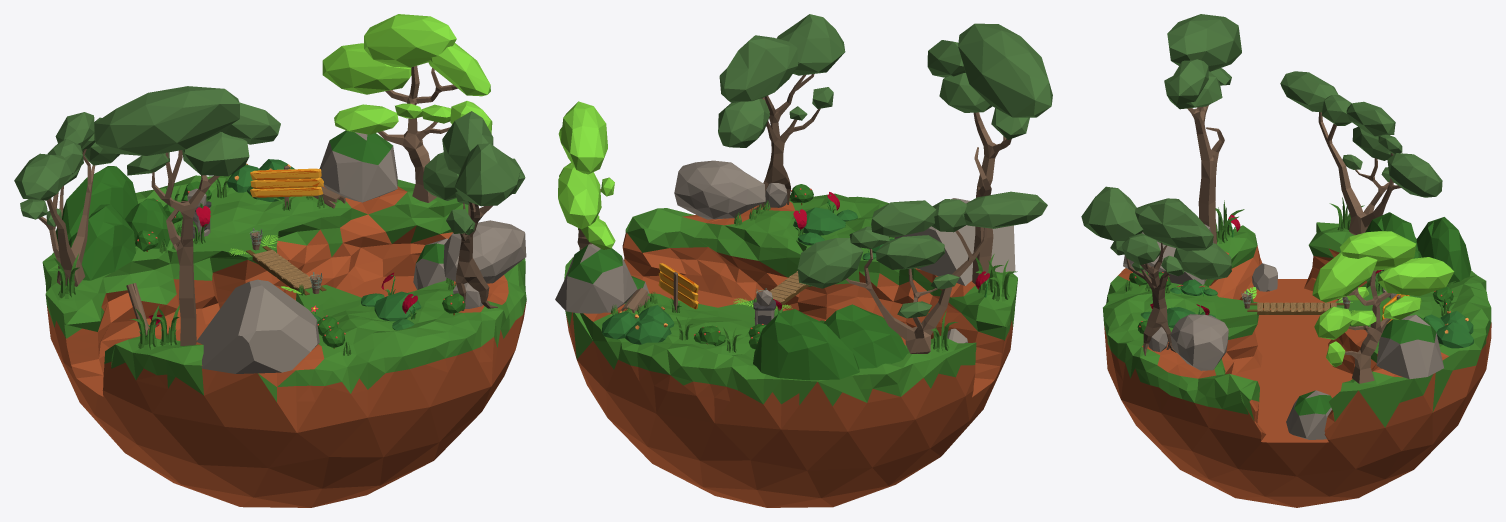
File: Isla3.fbx
The picture shows the model from 3 angles, left to right: view 1: azimuth 30°, elevation 25°; view 2: azimuth 150°, elevation 25°; view 3: azimuth 270°, elevation 25°; orthographic projection. The views are drawn at different scales.
Parts seen in each view (by area): view 1: isla, follaje1, follaje4, Stone3.001, arbusto, follaje3, follaje5, roca1, tronco1, roca, tronco4, tronco5 (+7 smaller); view 2: isla, follaje5, follaje1, follaje3, arbusto, follaje4, roca, roca1, Stone3.001, tronco5, Bush2.000, tronco1 (+2 smaller); view 3: isla, follaje4, follaje3, follaje5, follaje1, roca1, arbusto, roca, tronco5, tronco1, tronco4, roca1.001 (+4 smaller).
Boxes of the visible parts, box(x1,y1,x2,y2) form: isla: box(42, 174, 526, 507); follaje1: box(94, 86, 280, 176); follaje4: box(322, 14, 492, 134); Stone3.001: box(196, 279, 319, 373); arbusto: box(55, 166, 169, 280); follaje3: box(423, 111, 525, 234); follaje5: box(14, 112, 119, 226); roca1: box(319, 130, 397, 202); tronco1: box(151, 150, 219, 345); roca: box(443, 220, 526, 283); tronco4: box(378, 66, 457, 202); tronco5: box(38, 149, 95, 286); isla: box(564, 193, 1017, 507); follaje5: box(797, 191, 1047, 318); follaje1: box(927, 23, 1052, 139); follaje3: box(718, 14, 845, 147); arbusto: box(753, 304, 908, 380); follaje4: box(558, 101, 615, 249); roca: box(674, 160, 765, 219); roca1: box(555, 244, 637, 313); Stone3.001: box(894, 198, 1015, 285); tronco5: box(845, 227, 987, 353); Bush2.000: box(602, 305, 674, 344); tronco1: box(972, 112, 1011, 284); isla: box(1103, 222, 1491, 507); follaje4: box(1312, 231, 1454, 367); follaje3: box(1081, 186, 1231, 279); follaje5: box(1280, 71, 1442, 197); follaje1: box(1164, 14, 1241, 109); roca1: box(1376, 314, 1443, 379); arbusto: box(1365, 212, 1471, 283); roca: box(1170, 314, 1228, 370); tronco5: box(1318, 112, 1400, 235); tronco1: box(1187, 105, 1224, 243); tronco4: box(1344, 270, 1391, 383); roca1.001: box(1286, 390, 1332, 439).
Bounding box in the file's own units: 1188 × 1113 × 1030.
